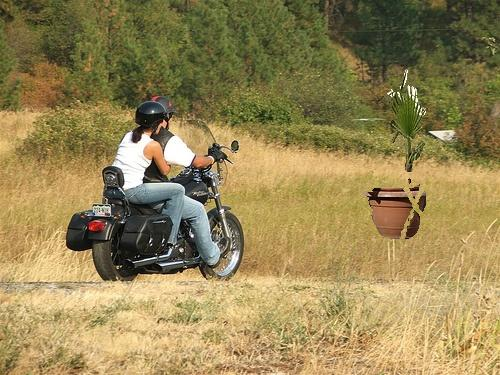tampered: (366, 70, 426, 239)
